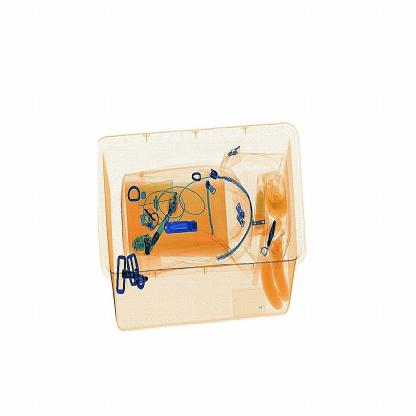knife: (160, 214, 208, 243)
